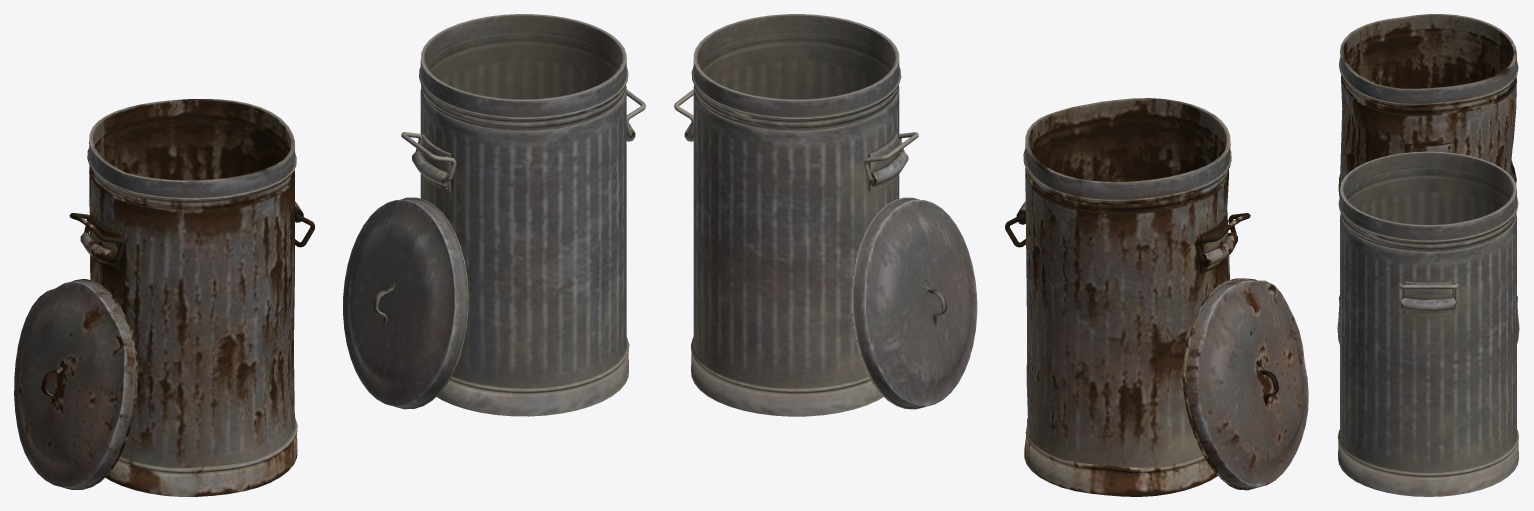
The model's file is metal_trash_can.glb.
3 renders of one model, left to right at view 1: azimuth 30°, elevation 25°; view 2: azimuth 150°, elevation 25°; view 3: azimuth 270°, elevation 25°, orthographic. The views are drawn at different scales.
Visible parts, largest first — view 1: metal_trash_can, metal_trash_can_rust, metal_trash_can_lid, metal_trash_can_rust_lid; view 2: metal_trash_can, metal_trash_can_rust, metal_trash_can_lid, metal_trash_can_rust_lid; view 3: metal_trash_can, metal_trash_can_rust, metal_trash_can_handle_right.
Boxes of the visible parts, box(x1,y1,x2,y2) form: metal_trash_can: box(412, 14, 635, 416); metal_trash_can_rust: box(80, 99, 303, 496); metal_trash_can_lid: box(343, 197, 468, 409); metal_trash_can_rust_lid: box(14, 279, 137, 489); metal_trash_can: box(684, 14, 908, 416); metal_trash_can_rust: box(1016, 98, 1237, 496); metal_trash_can_lid: box(851, 197, 977, 409); metal_trash_can_rust_lid: box(1183, 278, 1308, 490); metal_trash_can: box(1337, 151, 1518, 496); metal_trash_can_rust: box(1338, 14, 1518, 316); metal_trash_can_handle_right: box(1398, 283, 1458, 303).
Bounding box in the file's own units: 1.78 × 0.9062 × 0.5543.
Materials: 3 (3 with a texture image).
